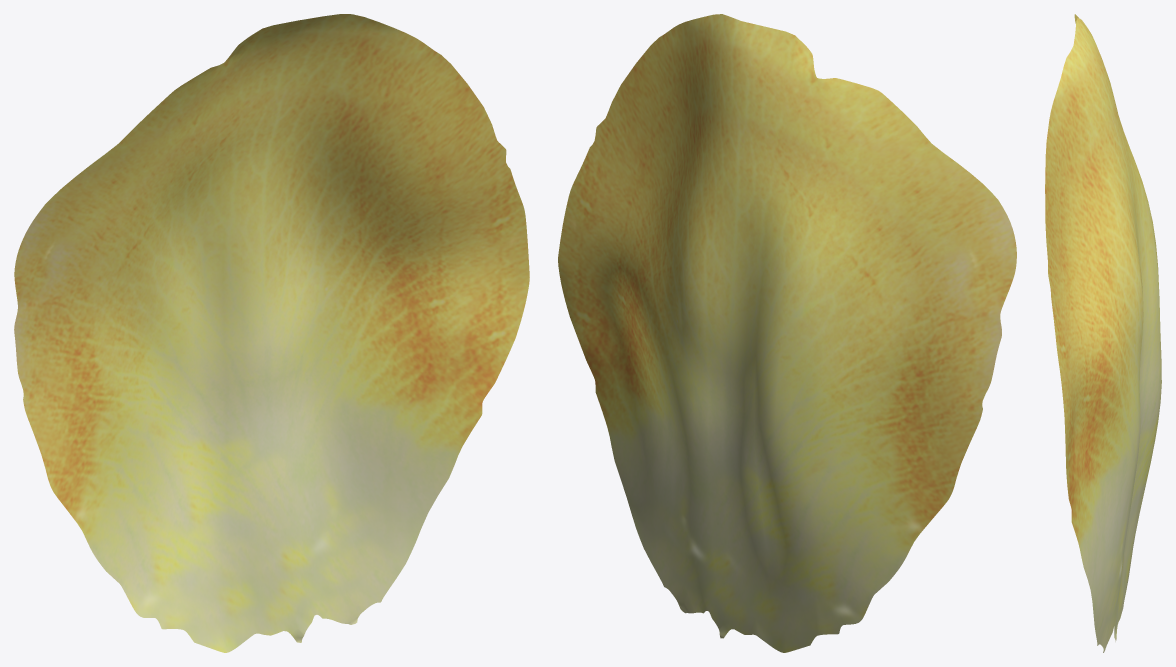
Rendered from petal.glb.
3 renders of one model, left to right at view 1: azimuth 30°, elevation 25°; view 2: azimuth 150°, elevation 25°; view 3: azimuth 270°, elevation 25°, orthographic. The views are drawn at different scales.
Visible parts, largest first — view 1: extrusion_6; view 2: extrusion_6; view 3: extrusion_6.
Part boxes in pixels (x1,y1,x2,y2): extrusion_6: [14, 14, 529, 652]; extrusion_6: [558, 14, 1016, 652]; extrusion_6: [1045, 14, 1161, 652].
Size of the model in its own units: 0.2888 by 0.3545 by 0.0626.
Materials: 1 (1 with a texture image).
